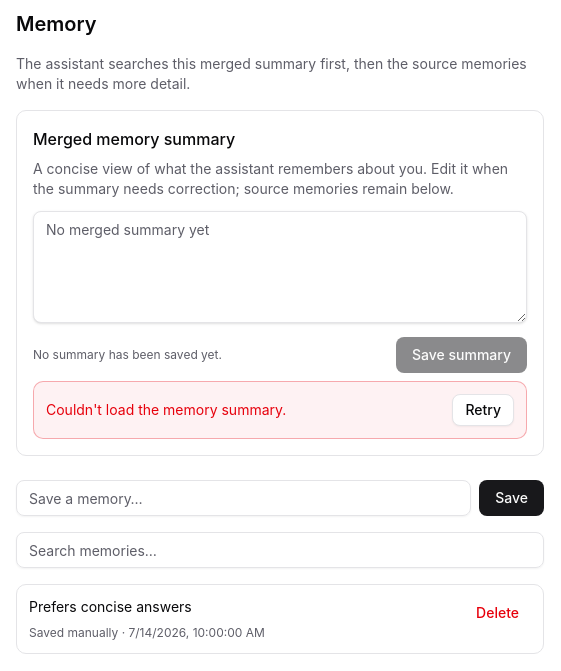
it: MemoryPanel query failures › recovers through the retry button after the summary query fails
Expected: the text "Couldn't load the memory summary." is shown, [46,400,286,420]
Click the button "Retry": [483, 410] box [452,394,514,426]
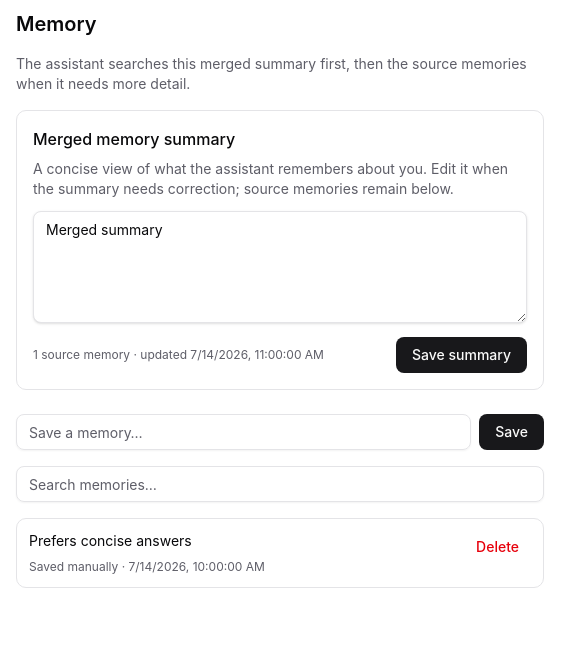
Expected: the text box showing "Merged summary" is shown, [33,211,527,323]
Now the text "Couldn't load the memory summary." is gone
